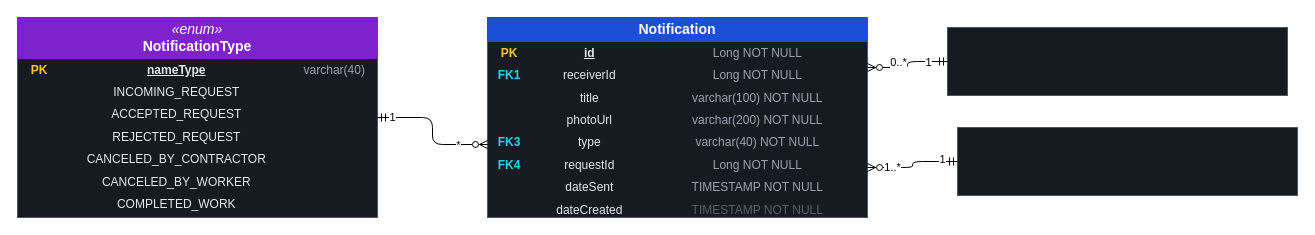
Some shapes in this 1315 by 235 pixel diagram are drawn without their labels. The centre of each missing label's shape, as x and y in pixels:
«dominio Service» Request PK id Long NOT NULL: point 1127,161
«dominio Usuario» User PK id Long NOT NULL: point 1117,61
